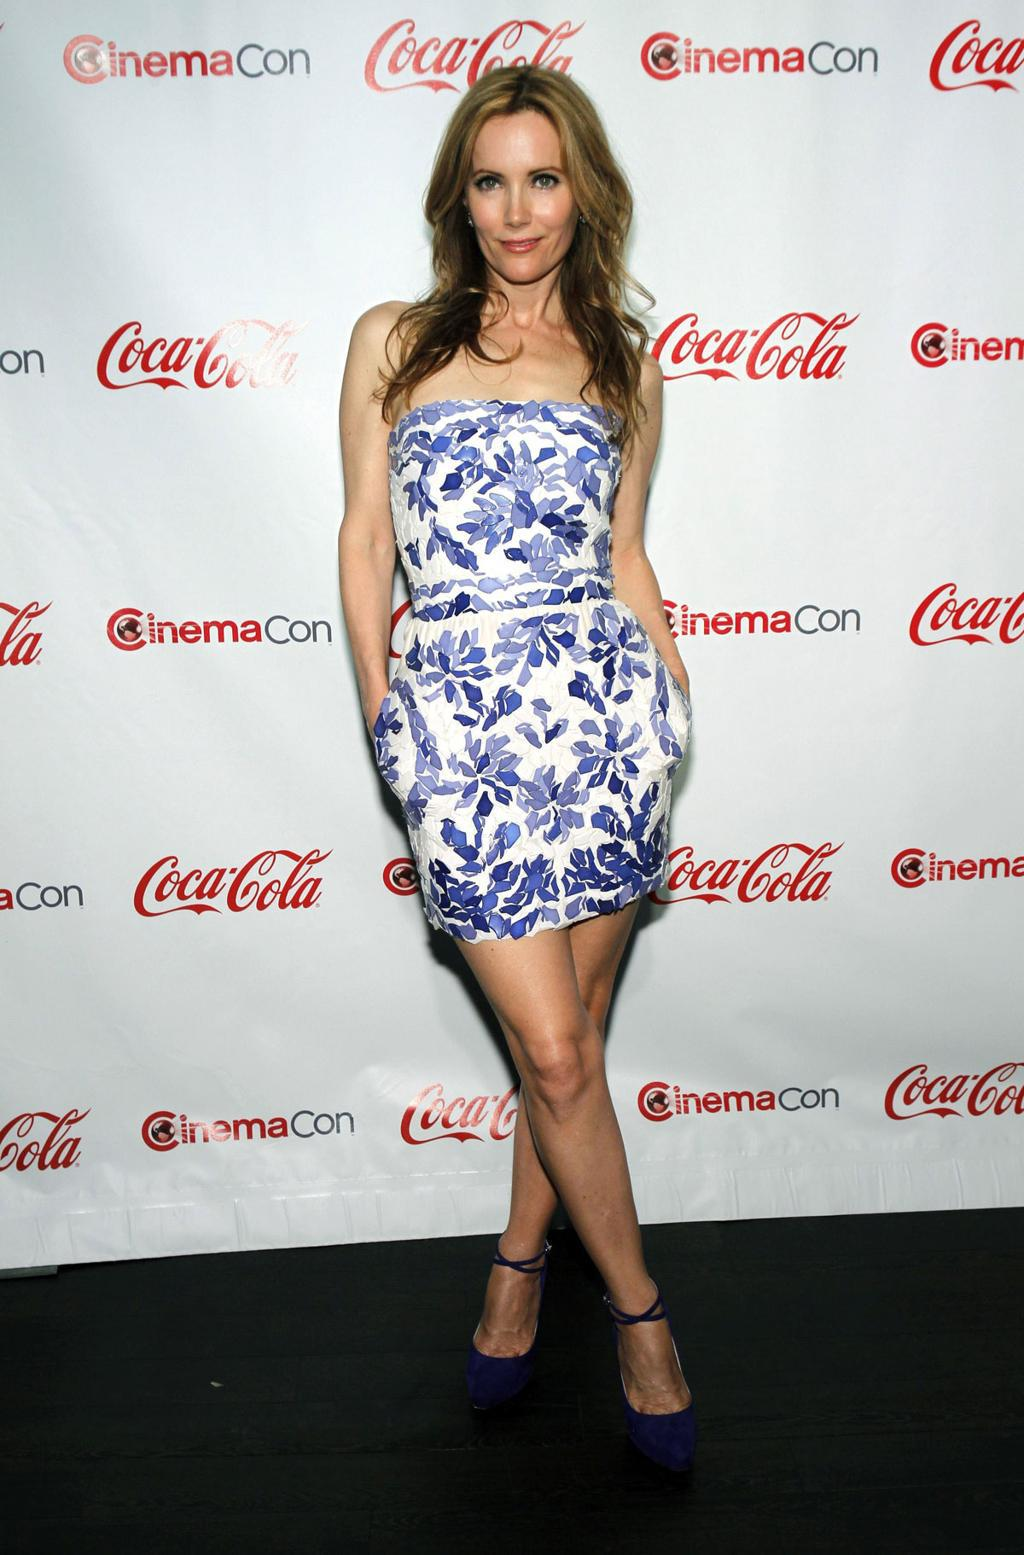face: (466, 83, 578, 287)
